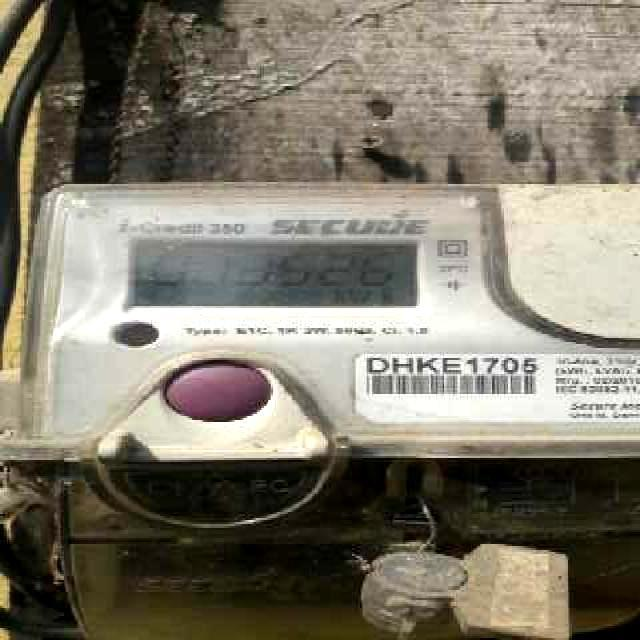LCD: (123, 230, 429, 315)
